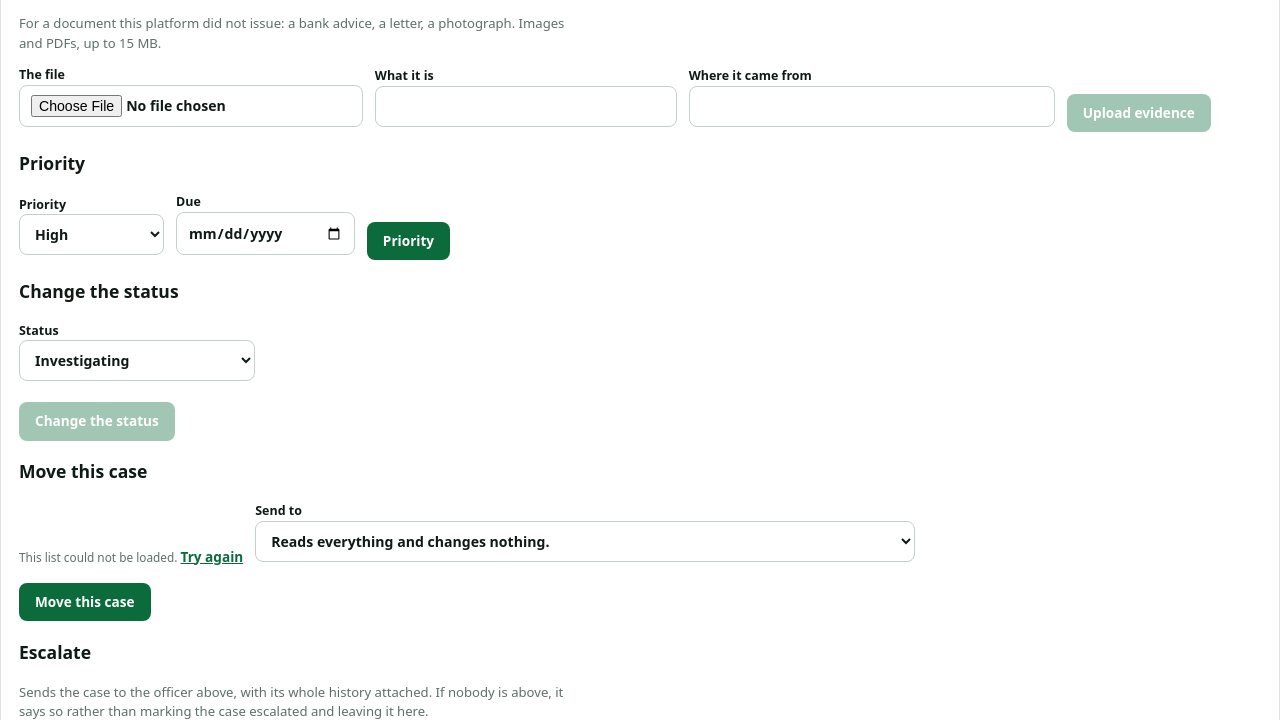
Test case: a case › will not let an officer resolve a case without saying what it concluded
(page scrolled)
Select "Resolved" in the dropdown labelled "Status" at (137, 361), box [19,340,255,381]
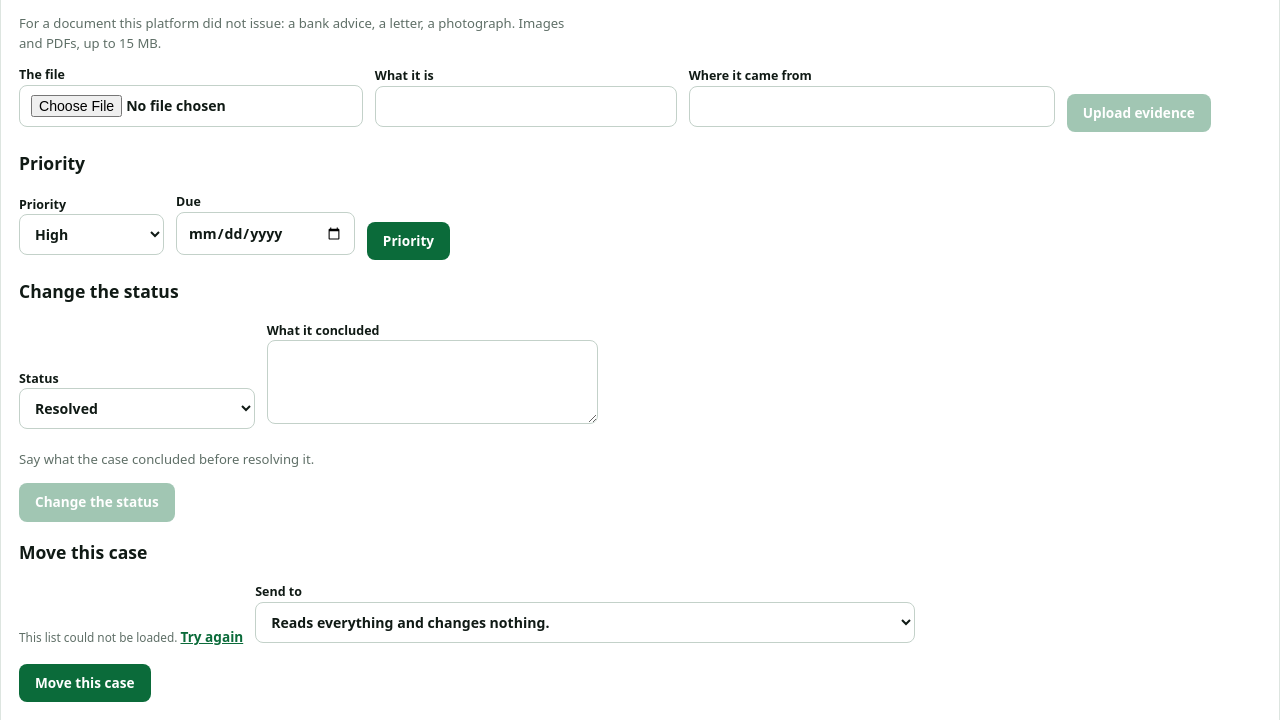
Expected: the button "Change the status" is disabled, [19,483,175,522]
Expected: the text "Say what the case concluded before resolving it." is shown, [19,450,314,468]
